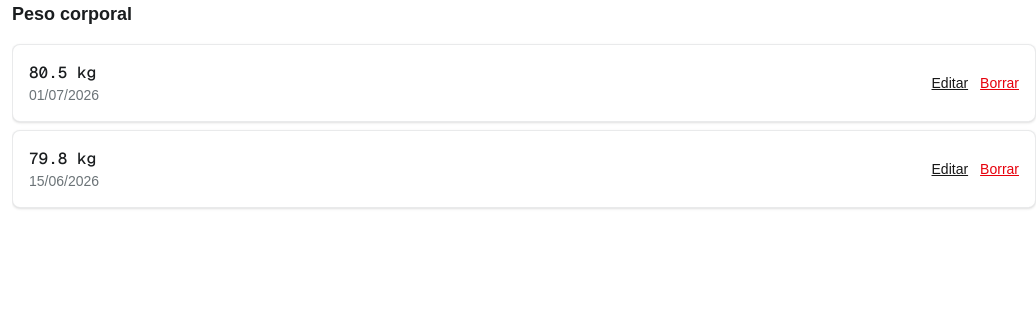
Test: WeightHistorySection › muestra el error de la Server Action en el formulario de edición
This screenshot has width=1036, height=316.
Click the button "Editar" in the row of "01/07/2026": [950, 83] box x1=932 y1=73 x2=968 y2=93
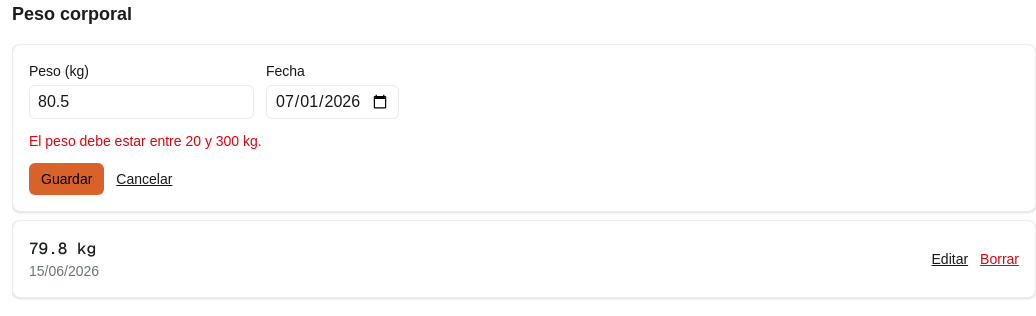
Expected: the message reads "El peso debe estar entre 20 y 300 kg.", x1=29 y1=133 x2=262 y2=149
